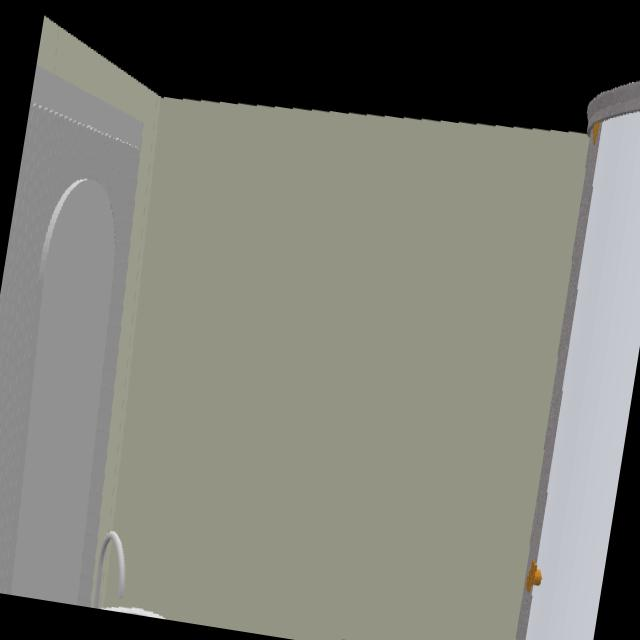shower: (524, 109, 640, 640)
